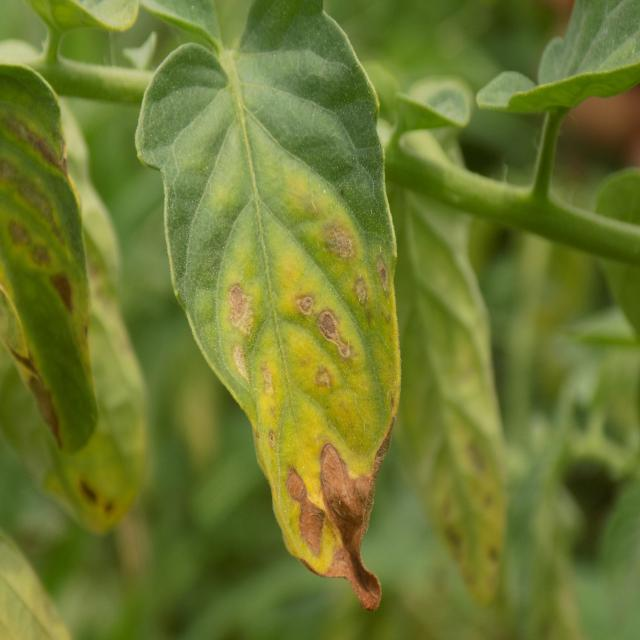tomato_early blight: (134, 0, 404, 616)
